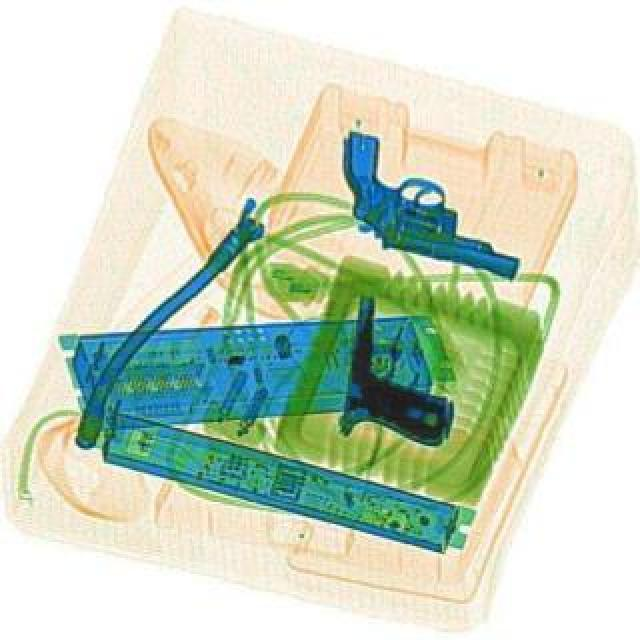gun: (312, 126, 540, 278), (332, 296, 460, 444)
